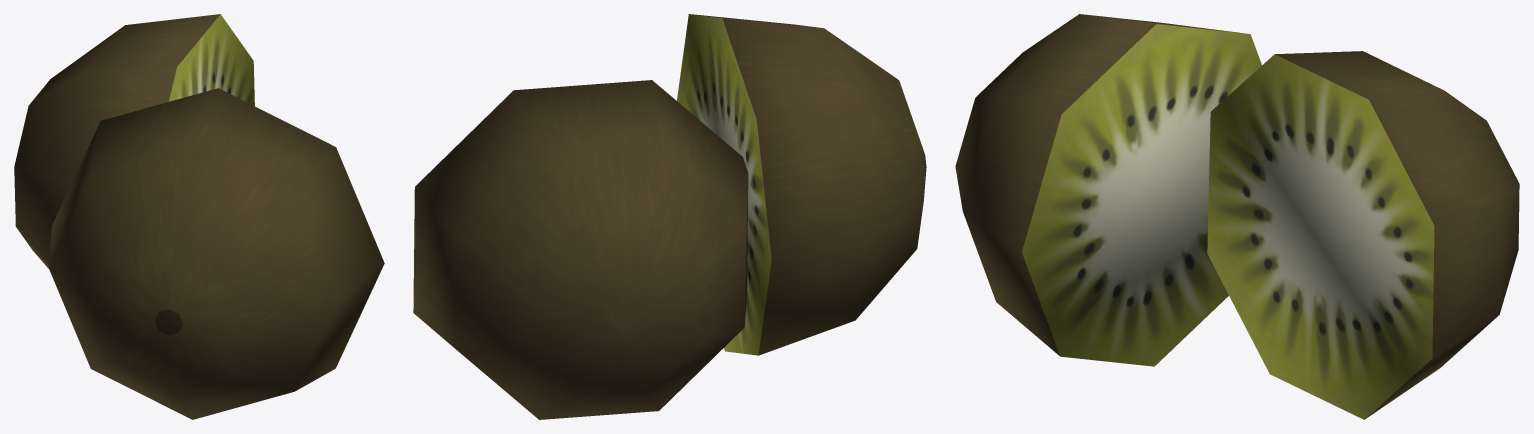
The model's file is KiwiCut.fbx.
The picture shows the model from 3 angles, left to right: view 1: azimuth 30°, elevation 25°; view 2: azimuth 150°, elevation 25°; view 3: azimuth 270°, elevation 25°; orthographic projection. The views are drawn at different scales.
Visible parts, largest first — view 1: Sphere.001; view 2: Sphere.001; view 3: Sphere.001.
Boxes of the visible parts, bbox=[...] form: Sphere.001: bbox=[14, 14, 384, 419]; Sphere.001: bbox=[413, 14, 926, 419]; Sphere.001: bbox=[955, 14, 1519, 419].
Size of the model in its own units: 216 by 200 by 298.
